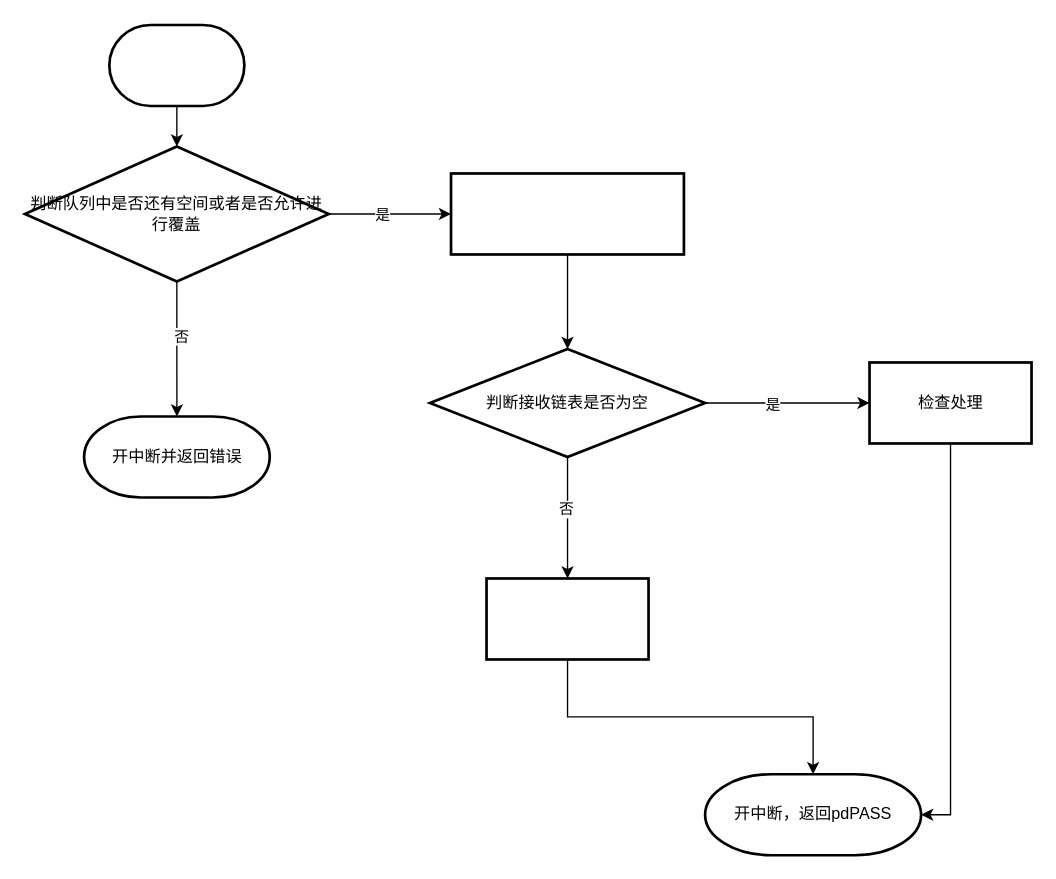
Image size: 1056x879. Some labels were removed from this diagram. The shapes that lost their labels are listed below. From the top down, each one's centre as x and y in pixels, then its label:
At point 176,65: "关中断".
At point 567,213: "uxMessagesWaiting++".
At point 567,618: "将任务移入ReadyList".
